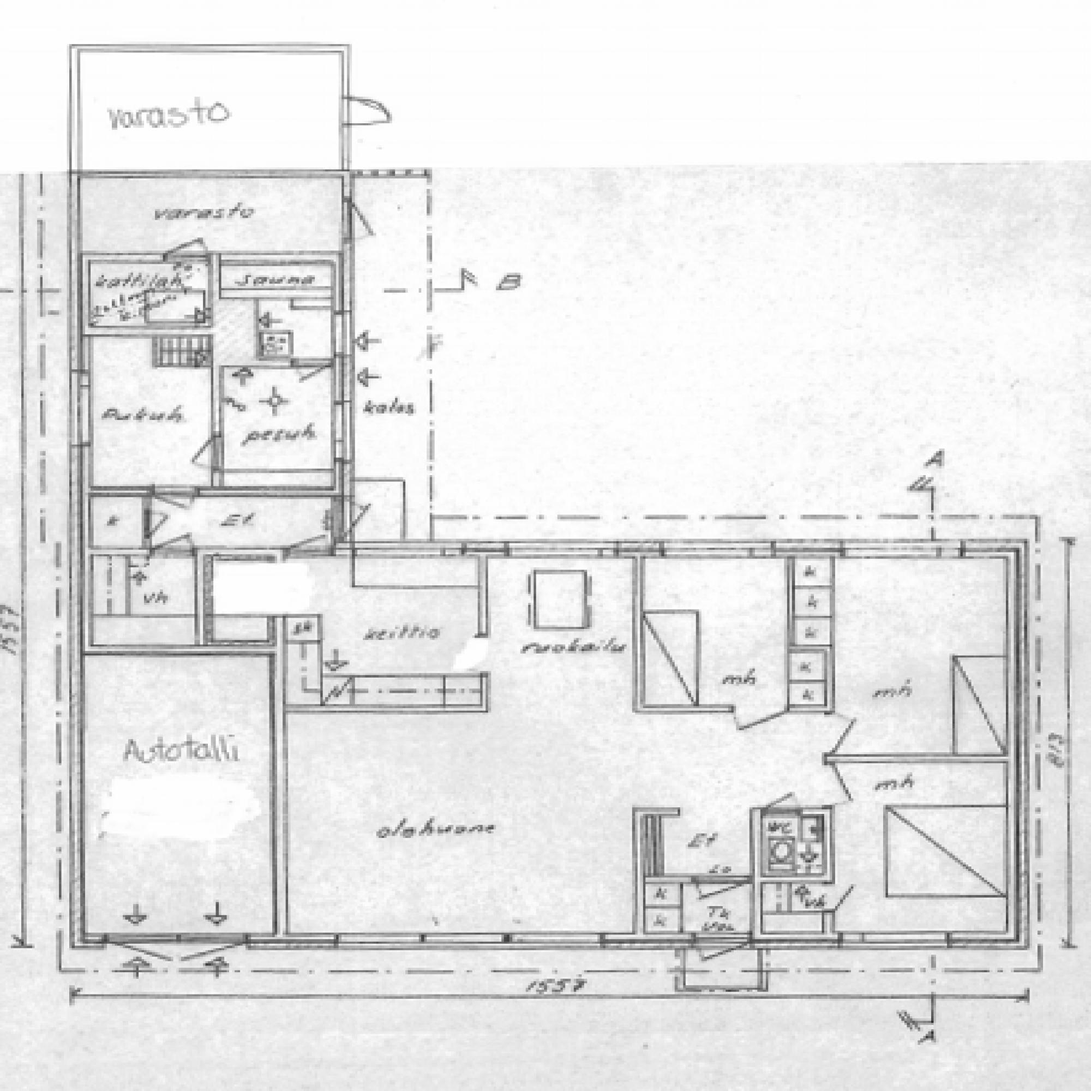wall: (287, 933, 1029, 949), (332, 540, 1029, 557), (1009, 540, 1029, 949), (70, 252, 90, 655), (332, 252, 353, 557), (70, 933, 287, 949), (275, 645, 286, 949), (70, 655, 80, 949), (70, 252, 353, 261), (70, 168, 353, 177), (341, 44, 353, 252), (70, 548, 332, 557), (70, 488, 353, 496), (221, 298, 256, 359), (70, 44, 80, 252), (70, 44, 353, 51), (70, 645, 287, 654), (213, 253, 221, 496), (194, 548, 210, 655), (633, 807, 644, 949), (750, 807, 761, 949), (635, 540, 644, 712), (275, 705, 486, 712), (825, 756, 1029, 763), (70, 327, 221, 336), (633, 876, 833, 882), (825, 645, 832, 815), (635, 706, 833, 712), (825, 807, 832, 949), (212, 360, 332, 368), (788, 540, 795, 651), (479, 540, 486, 635), (750, 807, 833, 815), (142, 489, 150, 557), (275, 614, 286, 646), (633, 807, 680, 814), (479, 674, 486, 712), (788, 645, 832, 651)
